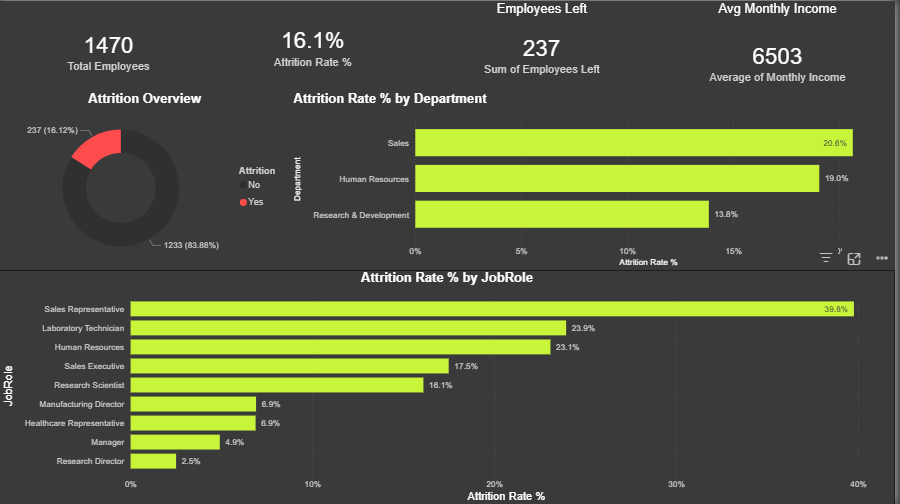

Layout of this report page (visuals, bound fields, positions):
{"tool":"powerbi","page":{"name":"Overview","canvas":[1280,720],"ordinal":0},"visuals":[{"type":"card","fields":{"Values":["CountNonNull(hr_attrition_cleaned.Age)"]},"box":[0,0,313.3,141.5],"z":0},{"type":"card","fields":{"Values":["hr_attrition_cleaned.Attrition Rate"]},"box":[288,0,320,128],"z":1000},{"type":"card","title":"Employees Left","fields":{"Values":["Sum(hr_attrition_cleaned.AttritionBinary)"]},"box":[592,0,368,128],"z":2000},{"type":"card","title":"Avg Monthly Income","fields":{"Values":["Avg(hr_attrition_cleaned.MonthlyIncome)"]},"box":[944.2,0,335.8,151.4],"z":3000},{"type":"donutChart","title":"Attrition Overview","fields":{"Category":["hr_attrition_cleaned.Attrition"],"Y":["CountNonNull(hr_attrition_cleaned.AttritionBinary)"]},"box":[0,128,416,256],"z":4000},{"type":"clusteredBarChart","fields":{"Category":["hr_attrition_cleaned.Department"],"Y":["hr_attrition_cleaned.Attrition Rate"]},"box":[416,128,864,256],"z":5000},{"type":"clusteredBarChart","fields":{"Category":["hr_attrition_cleaned.JobRole"],"Y":["hr_attrition_cleaned.Attrition Rate"]},"box":[0,384,1280,336],"z":6000}]}

Visuals, with their boxes in screenshot pixels (x1, y1, x2, y2), scaled from the page's 1280x720 canvas onto the 900x504 screenshot:
card - CountNonNull(hr_attrition_cleaned.Age): Rect(0, 0, 220, 99)
card - hr_attrition_cleaned.Attrition Rate: Rect(202, 0, 428, 90)
"Employees Left" card: Rect(416, 0, 675, 90)
"Avg Monthly Income" card: Rect(664, 0, 899, 106)
"Attrition Overview" donutChart: Rect(0, 90, 292, 269)
clusteredBarChart - hr_attrition_cleaned.Department x hr_attrition_cleaned.Attrition Rate: Rect(292, 90, 899, 269)
clusteredBarChart - hr_attrition_cleaned.JobRole x hr_attrition_cleaned.Attrition Rate: Rect(0, 269, 899, 503)
